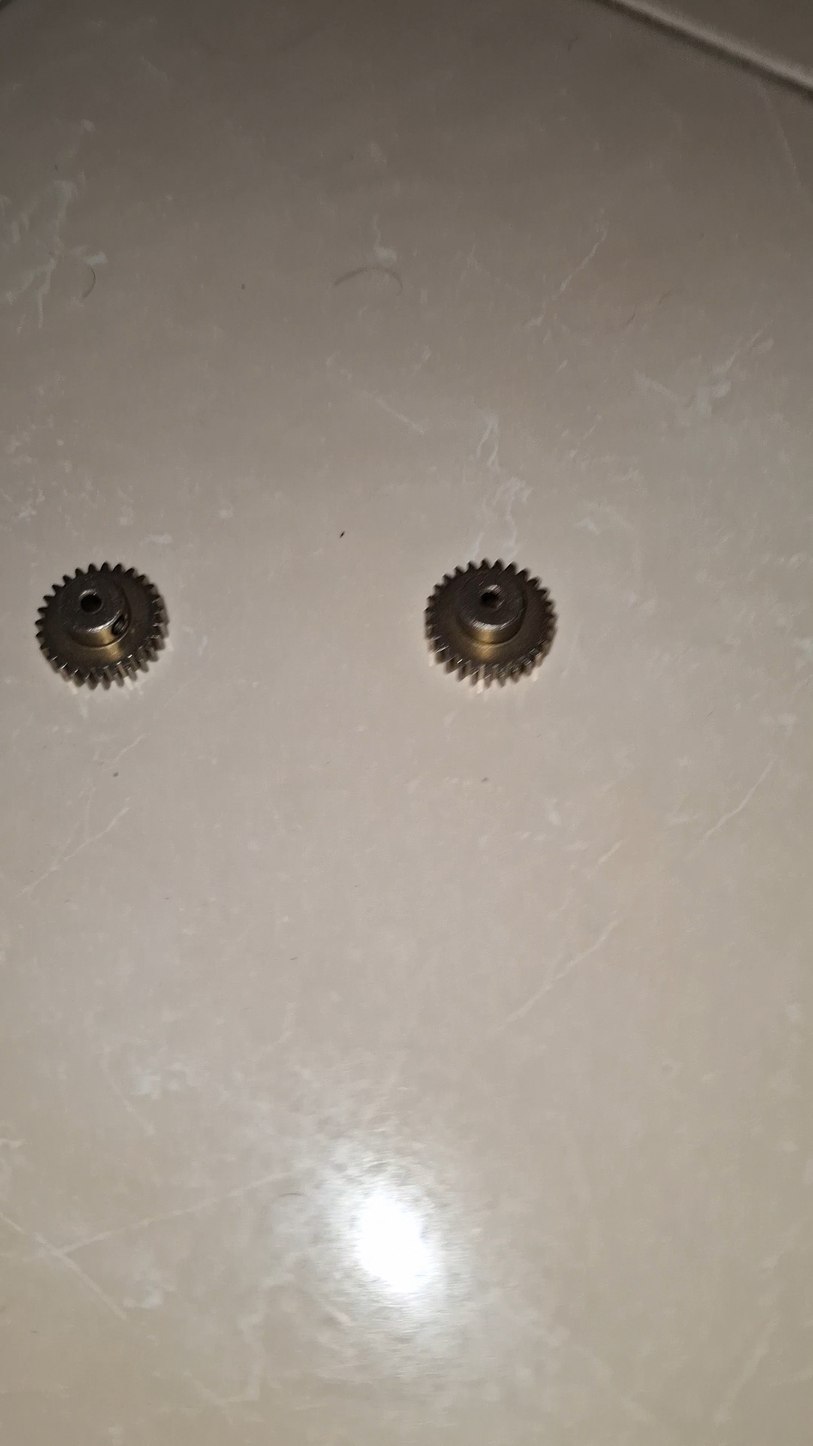spur gear: (425, 560, 556, 683), (37, 563, 166, 686)
